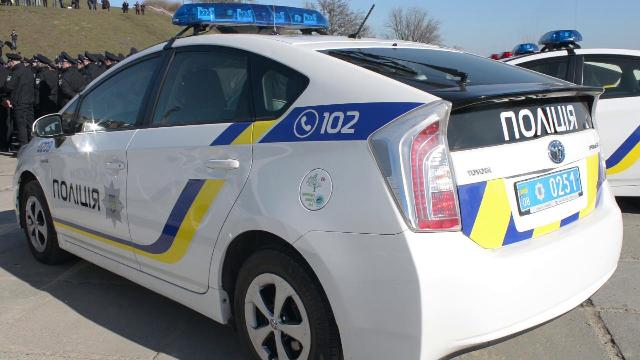police: (13, 0, 623, 360), (494, 27, 640, 205)
